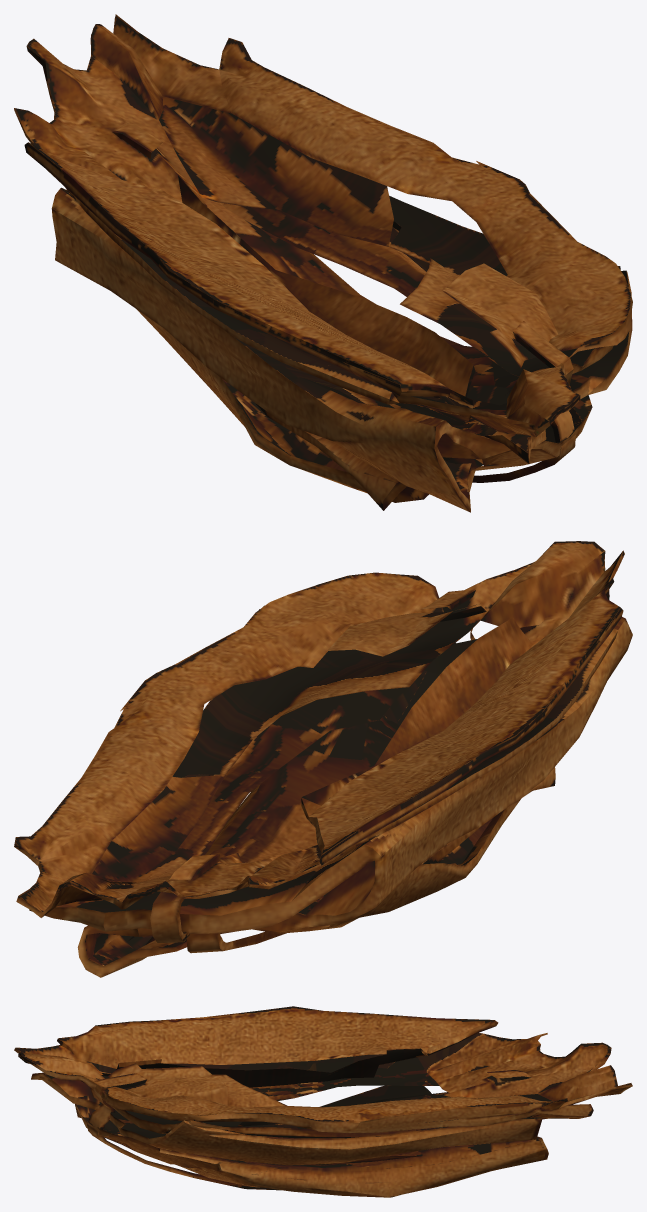
Rendered from item_wspwrp.glb.
3 renders of one model, top to bottom at view 1: azimuth 30°, elevation 25°; view 2: azimuth 150°, elevation 25°; view 3: azimuth 270°, elevation 25°, orthographic. The views are drawn at different scales.
Parts seen in each view (by area): view 1: organic_wspwrp; view 2: organic_wspwrp; view 3: organic_wspwrp.
Part boxes in pixels (x1,y1,x2,y2): organic_wspwrp: (14,14,632,512); organic_wspwrp: (14,541,632,977); organic_wspwrp: (14,1006,632,1197).
Size of the model in its own units: 0.4034 by 0.2247 by 1.
Materials: 1 (1 with a texture image).
